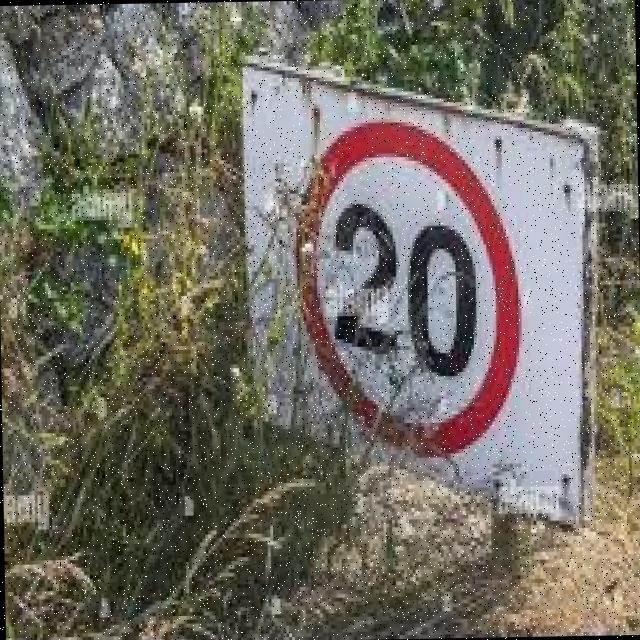speed_limit_20: (276, 106, 537, 476)
